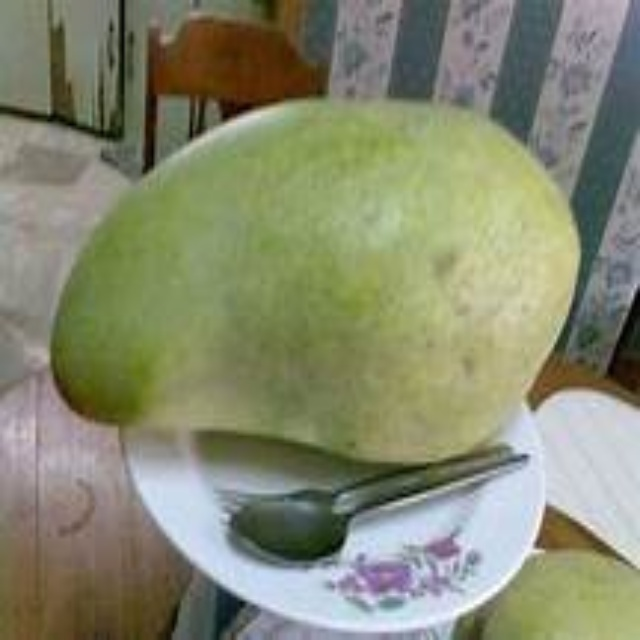mango: (47, 95, 573, 465)
